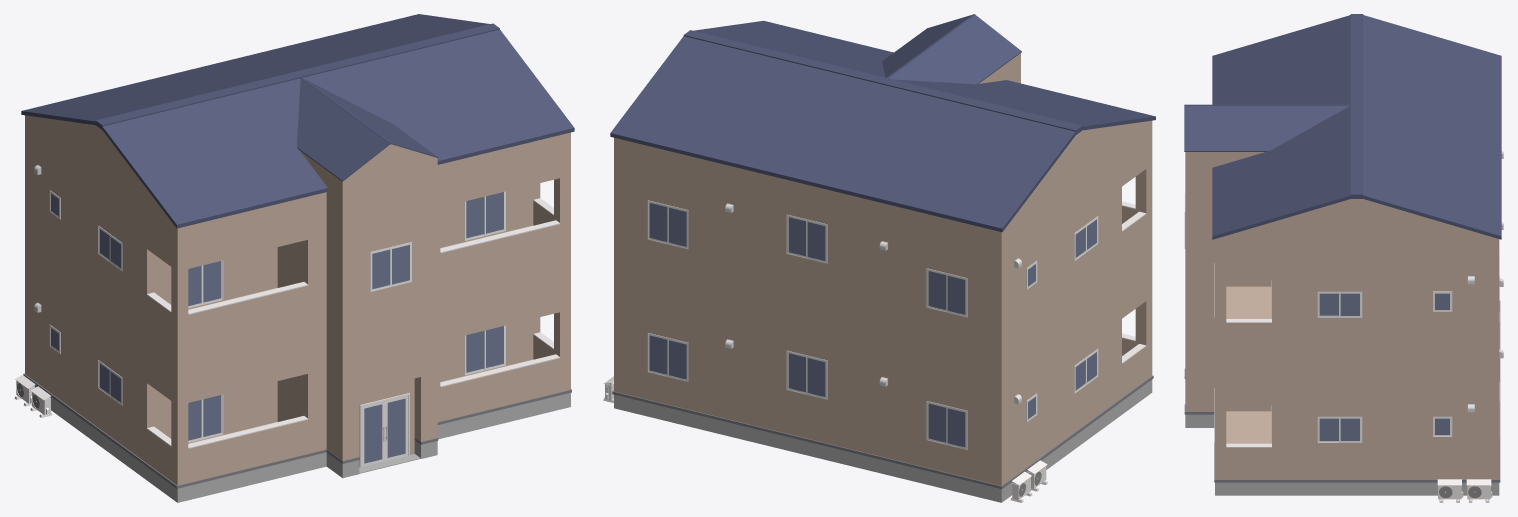
Rendered from MobHouse15.fbx.
3 renders of one model, left to right at view 1: azimuth 30°, elevation 25°; view 2: azimuth 150°, elevation 25°; view 3: azimuth 270°, elevation 25°, orthographic. The views are drawn at different scales.
Visible parts, largest first — view 1: Flat_half_house01.015; view 2: Flat_half_house01.015; view 3: Flat_half_house01.015.
Boxes of the visible parts, left/top/right/bottom form: Flat_half_house01.015: left=14, top=14, right=574, bottom=502; Flat_half_house01.015: left=603, top=14, right=1155, bottom=502; Flat_half_house01.015: left=1184, top=14, right=1503, bottom=502.
Bounding box in the file's own units: 13.29 × 9.7 × 9.29.
